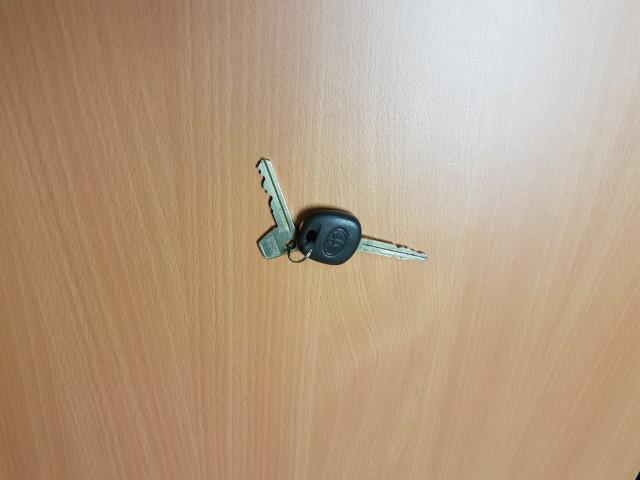key: (294, 204, 429, 267)
